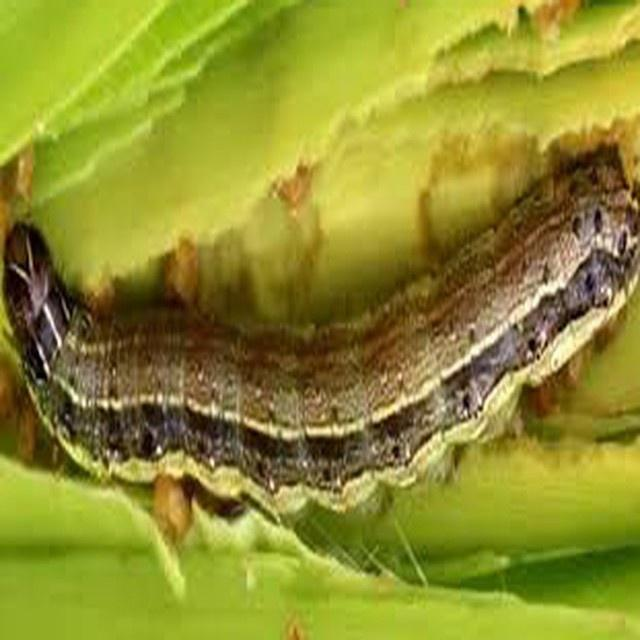gusano_cogollero: (4, 148, 628, 505)
